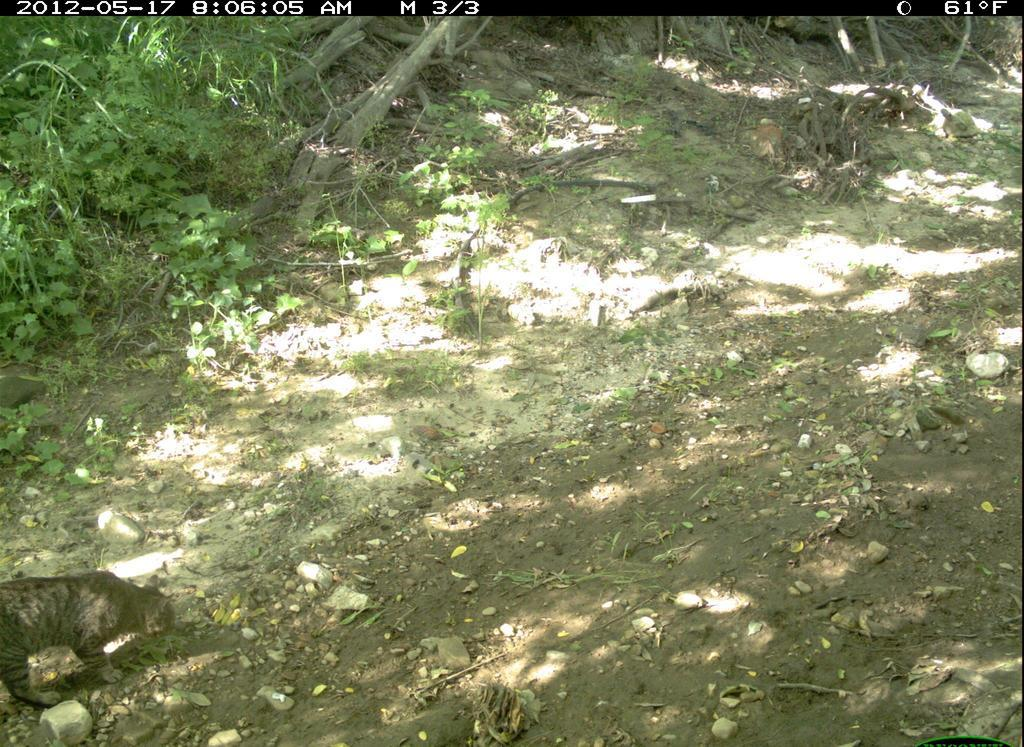cat: (3, 566, 191, 716)
